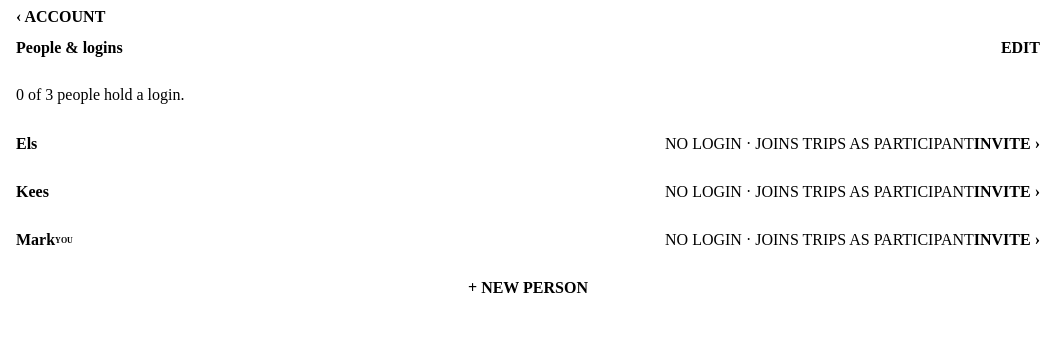
Test: the People screen › offers no way to remove a Person, in EDIT mode or out of it
The width and height of the screenshot is (1058, 362).
Expected: the button "REMOVE" is not shown
Click the button "EDIT": click(1020, 48) [1001, 26, 1040, 70]
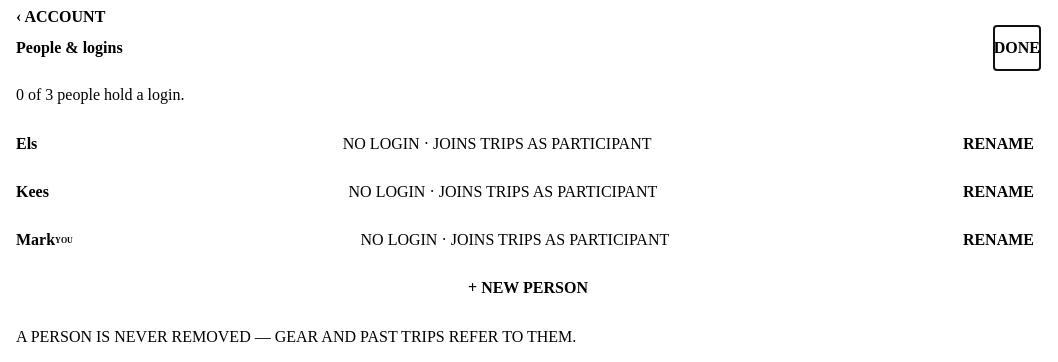
Expected: the text "NEVER REMOVED" is shown, [16, 328, 576, 345]
